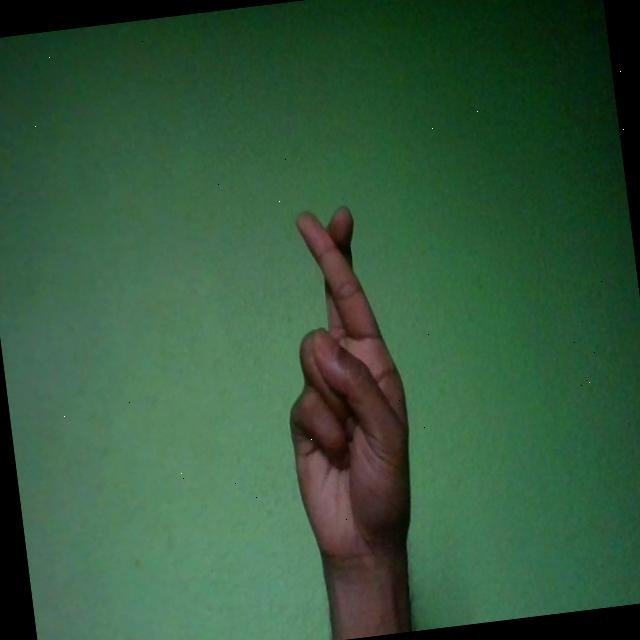Ok: (263, 199, 423, 573)
